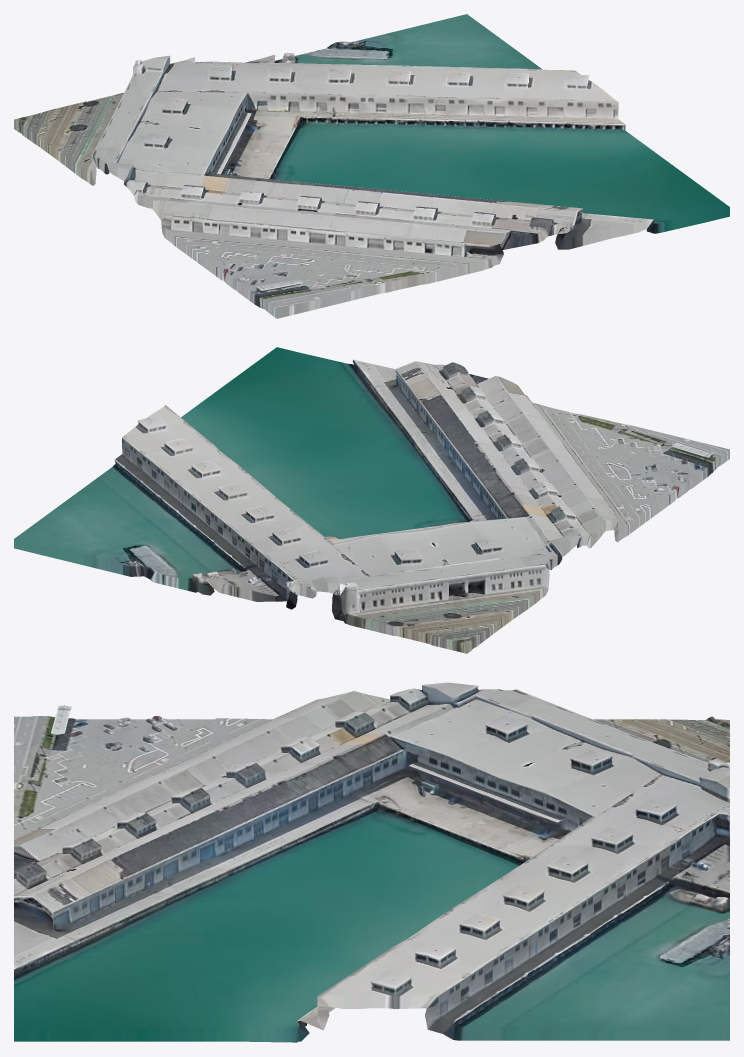
The model's file is z17-20970-50647-h0-yup-uvflip-v3-world.glb.
3 views of the same model, one above another, from view 1: azimuth 30°, elevation 25°; view 2: azimuth 150°, elevation 25°; view 3: azimuth 270°, elevation 25° (orthographic). The views are drawn at different scales.
Size of the model in its own units: 241 by 23.36 by 243.
1 material, 1 textured.
